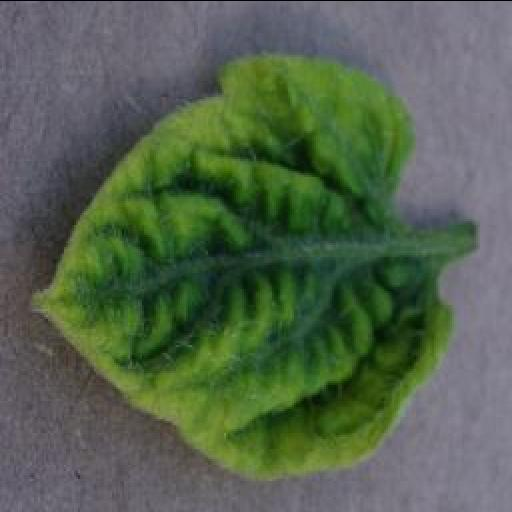disease_tomato: (26, 52, 454, 480)
